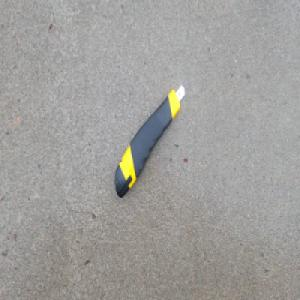Cutter: (112, 80, 187, 200)
